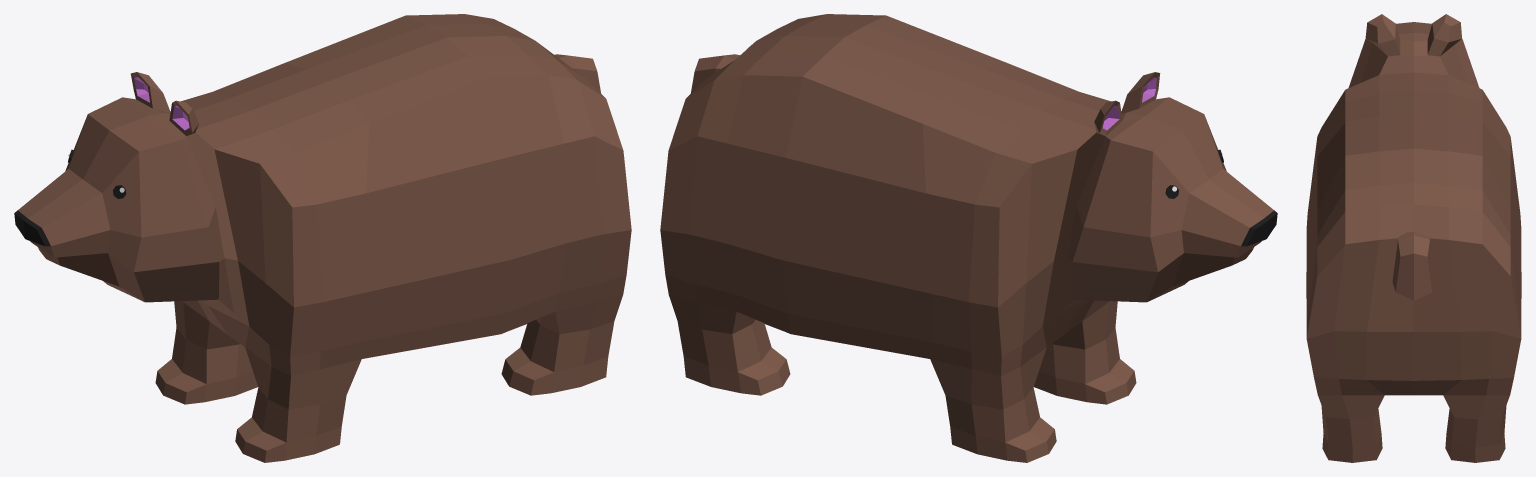
Rendered from Bear.glb.
3 renders of one model, left to right at view 1: azimuth 30°, elevation 25°; view 2: azimuth 150°, elevation 25°; view 3: azimuth 270°, elevation 25°, orthographic. The views are drawn at different scales.
Visible parts, largest first — view 1: Cube.037_Cube.036; view 2: Cube.037_Cube.036; view 3: Cube.037_Cube.036.
Boxes of the visible parts, x1,y1,x2,y2 form: Cube.037_Cube.036: (14,14,631,462); Cube.037_Cube.036: (660,14,1277,462); Cube.037_Cube.036: (1306,14,1521,462).
Bounding box in the file's own units: 330 × 191 × 130.
